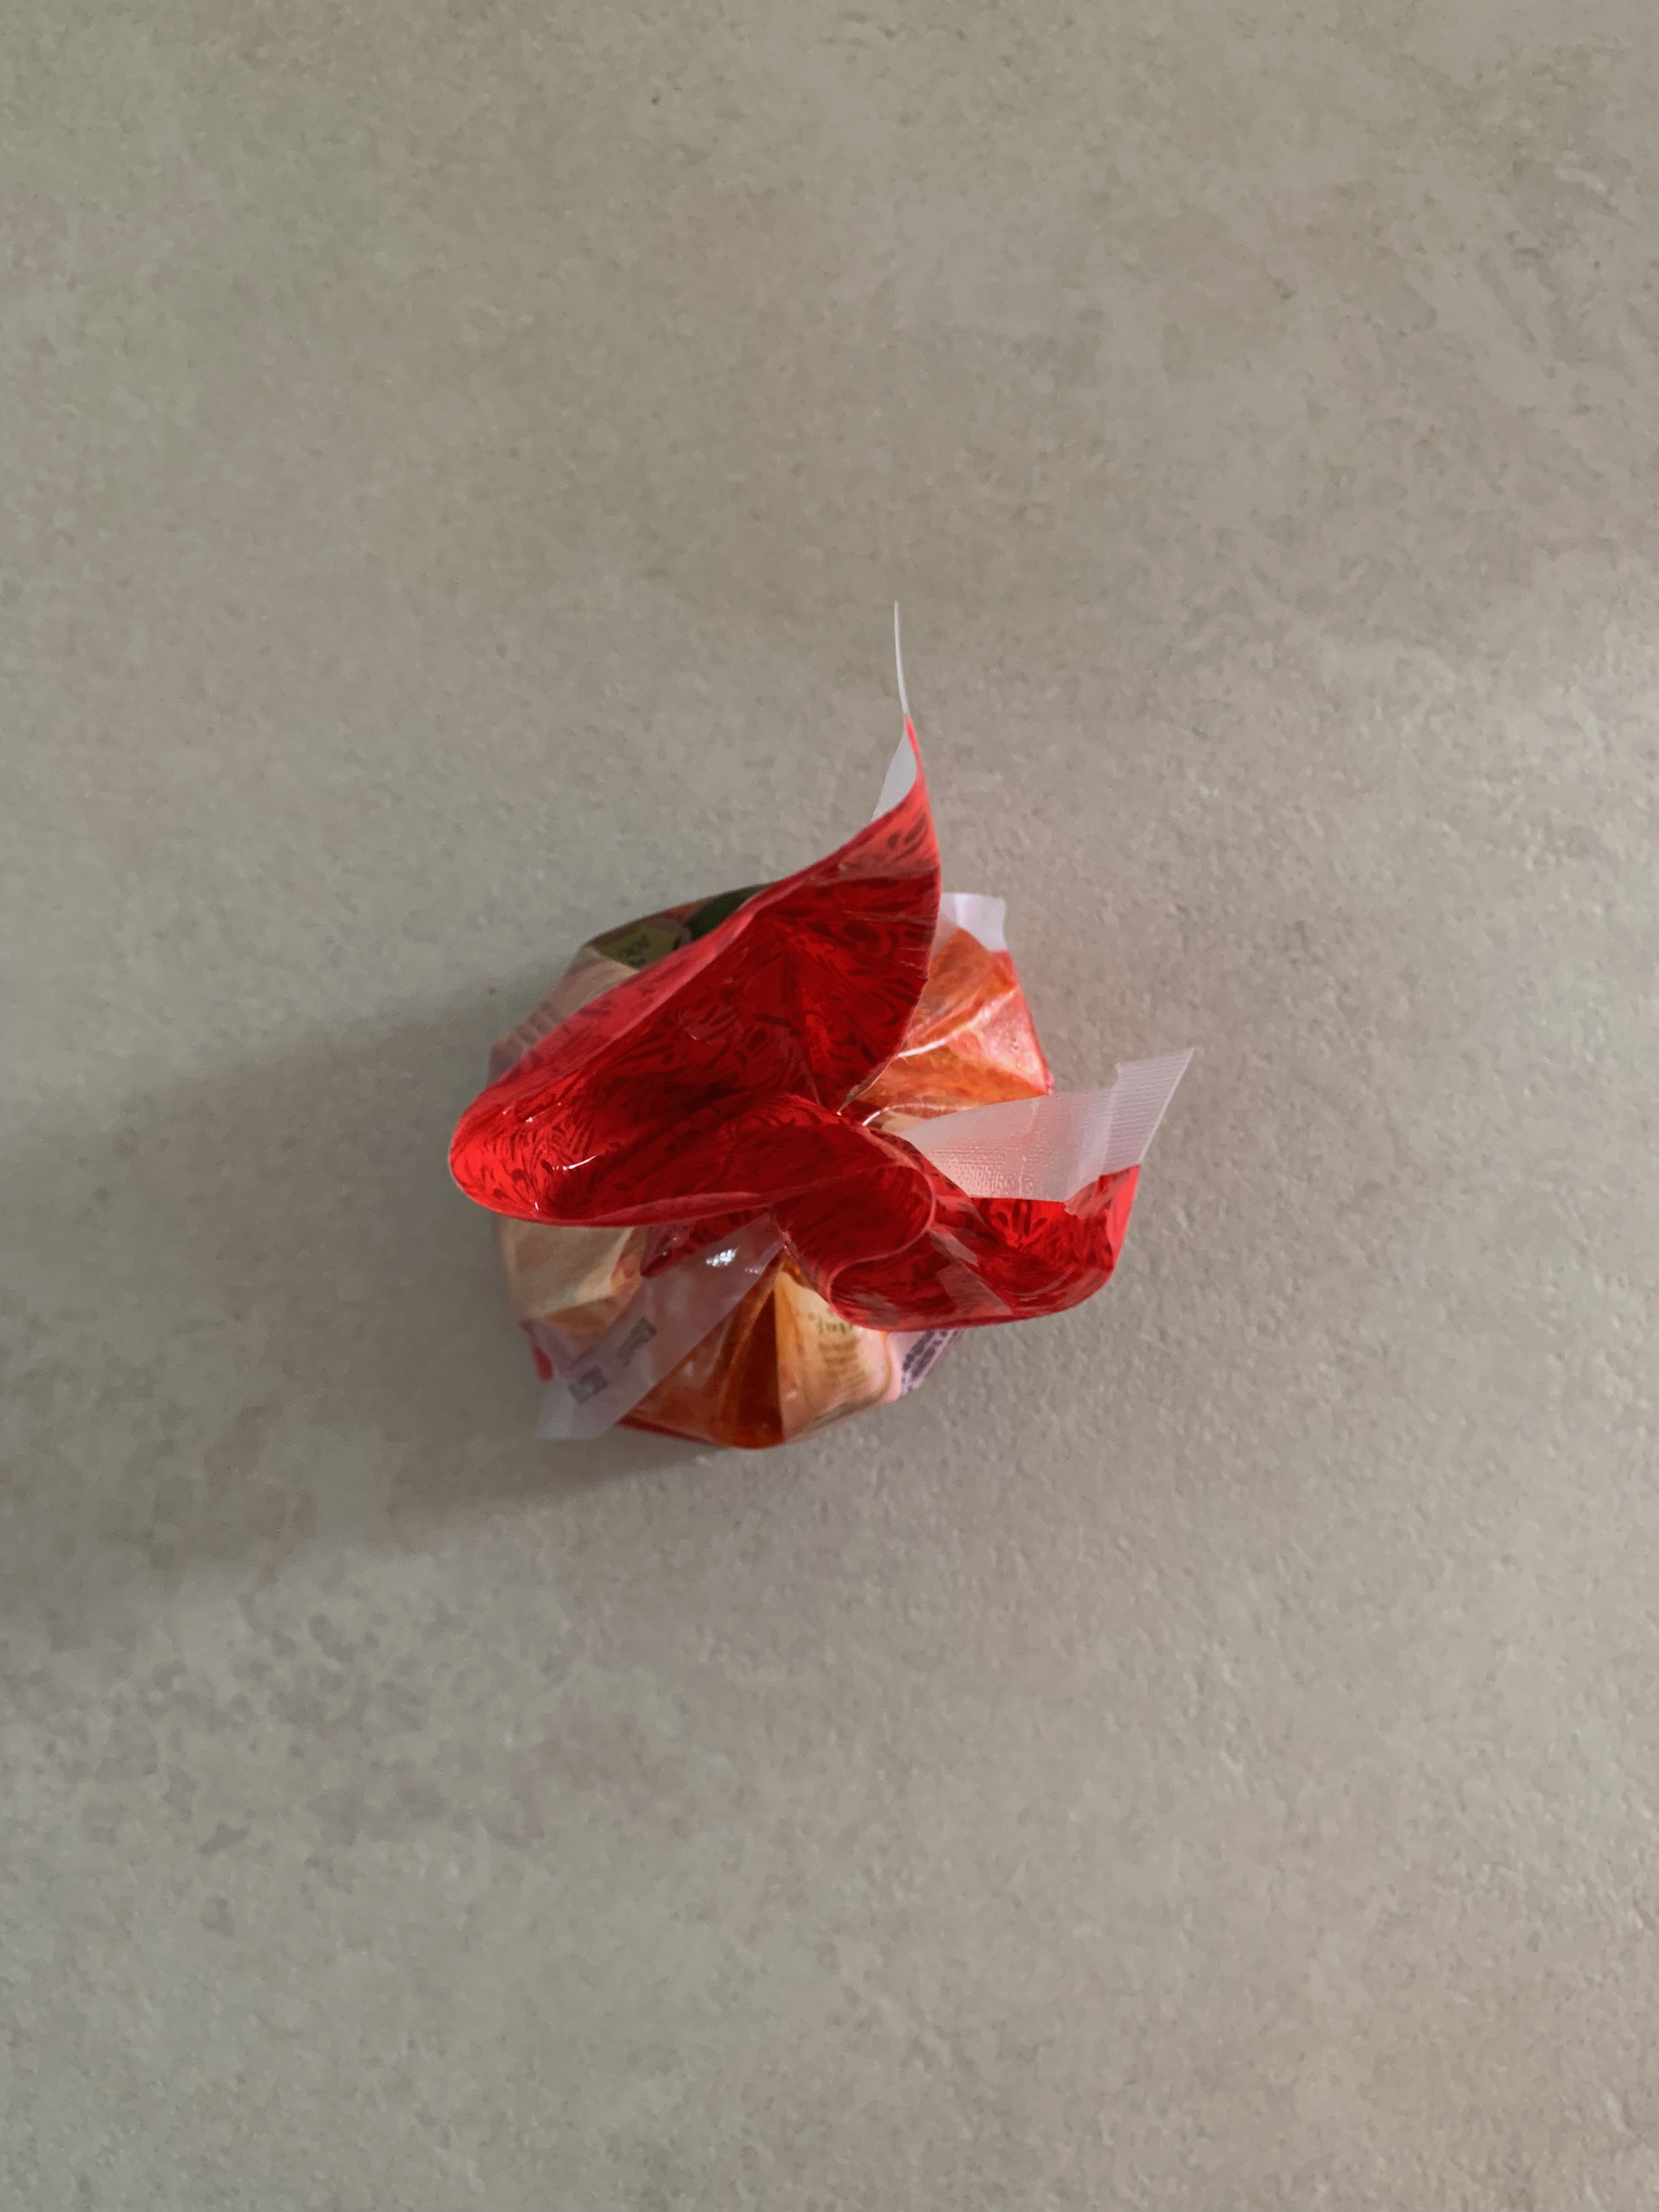kimchi: (443, 806, 1136, 1454)
